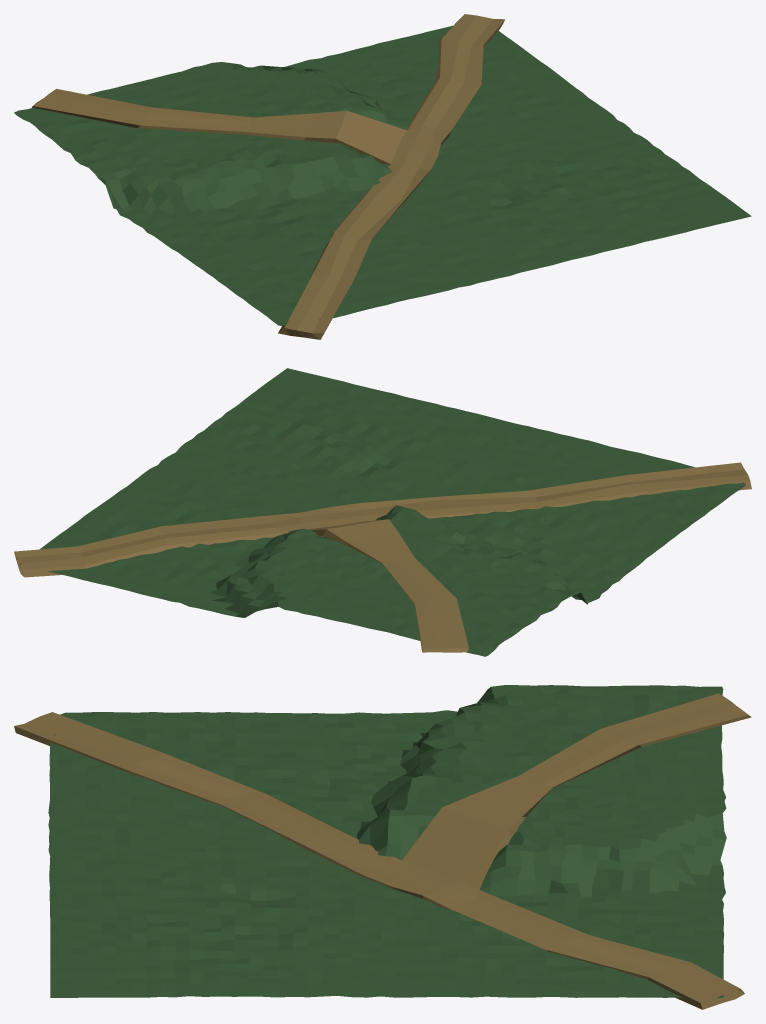
The model's file is athili_copse_section3.glb.
The picture shows the model from 3 angles, top to bottom: view 1: azimuth 30°, elevation 25°; view 2: azimuth 150°, elevation 25°; view 3: azimuth 270°, elevation 25°; orthographic projection. The views are drawn at different scales.
Visible parts, largest first — view 1: Grass, Road; view 2: Grass, Road; view 3: Grass, Road.
Boxes of the visible parts, x1,y1,x2,y2 form: Grass: (14, 25, 751, 326); Road: (32, 14, 504, 339); Grass: (19, 368, 745, 656); Road: (14, 462, 751, 652); Grass: (48, 685, 726, 997); Road: (14, 693, 751, 1009).
Size of the model in its own units: 61.63 by 3.86 by 64.83.
